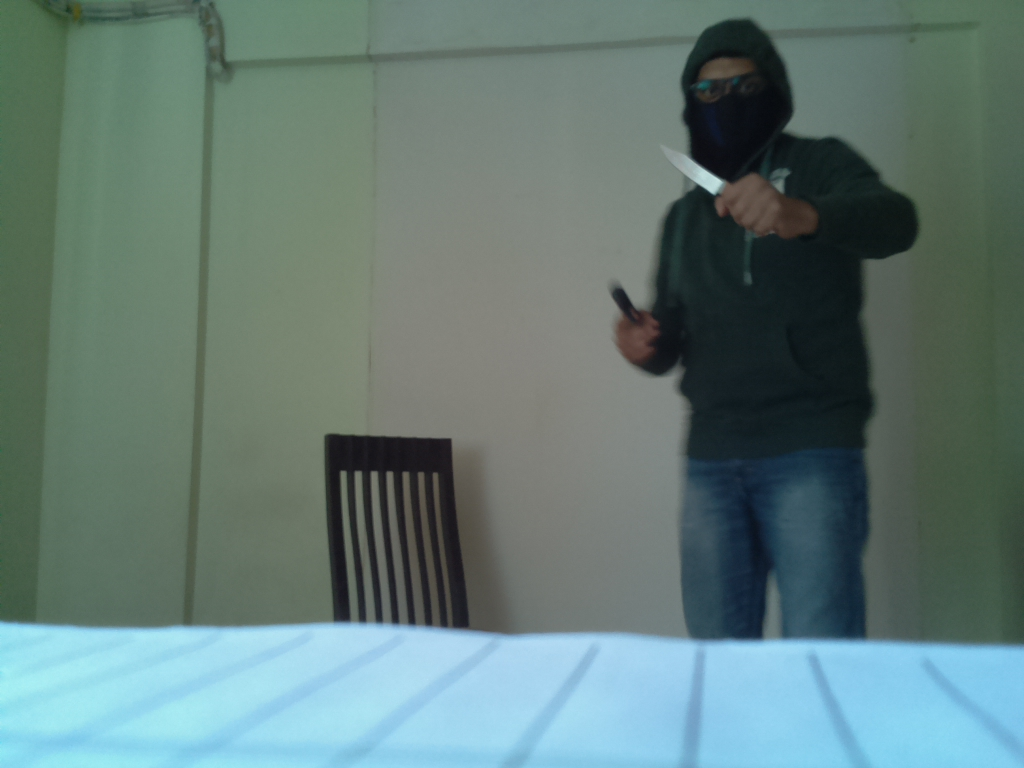knife: (649, 143, 740, 207)
